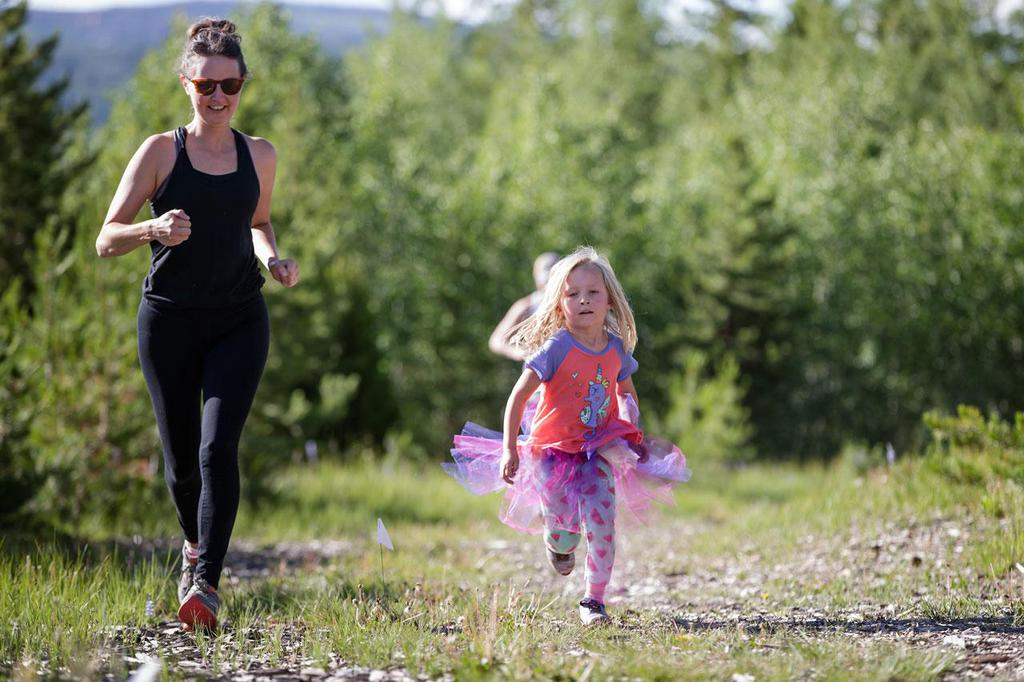child: (477, 247, 690, 611)
